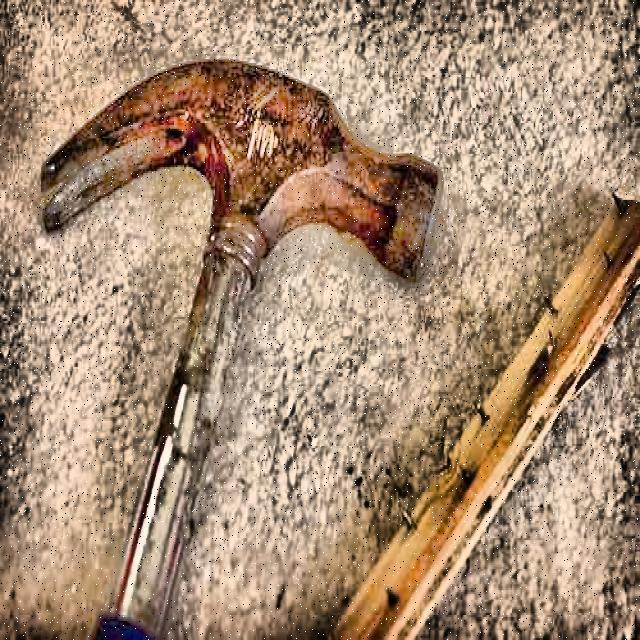hammer: (37, 50, 445, 640)
